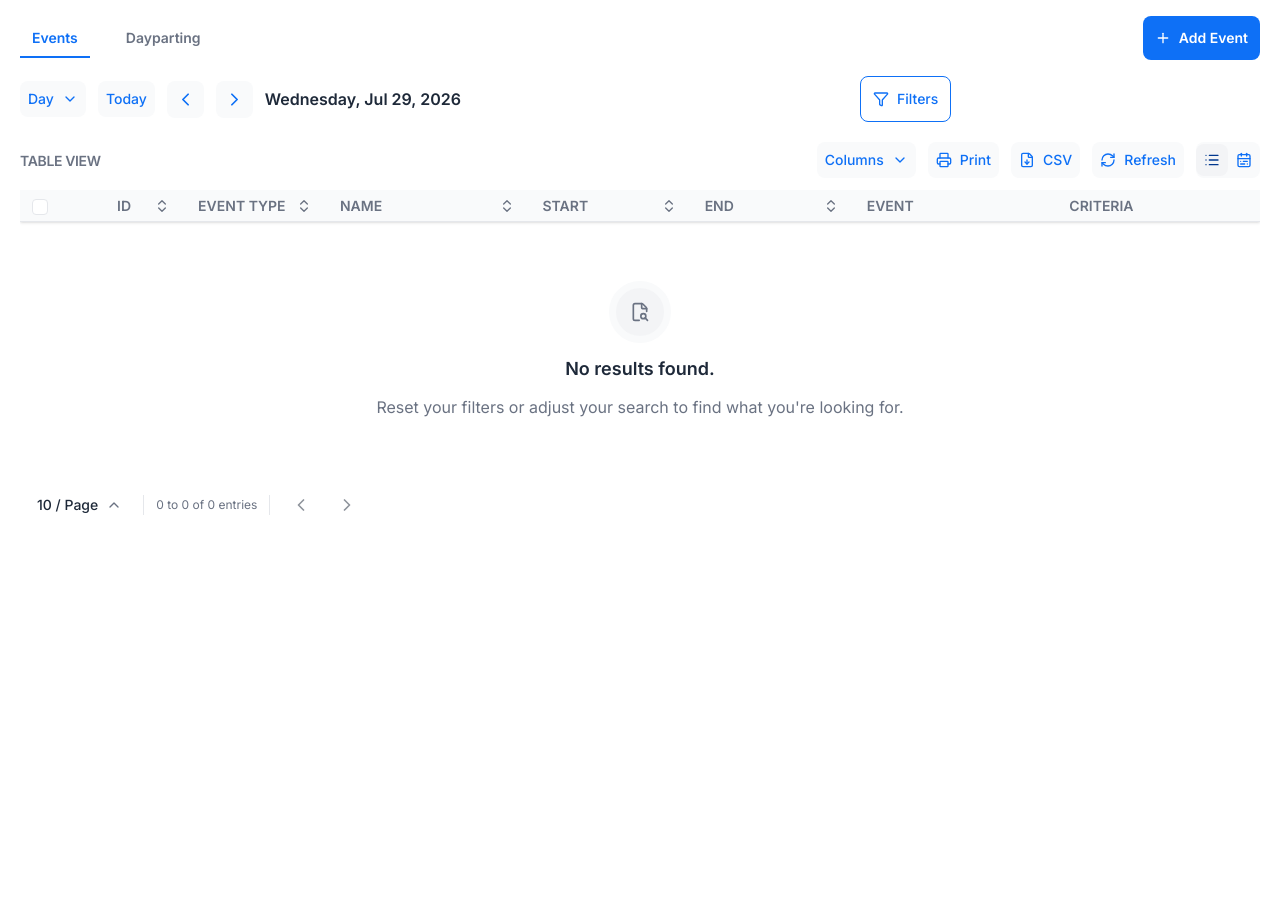
Test: Events page – calendar view toggle › clicking Table View toggle switches back from calendar view
Click the button titled "Calendar View".
click(1244, 160)  # box left=1228, top=144, right=1260, bottom=176
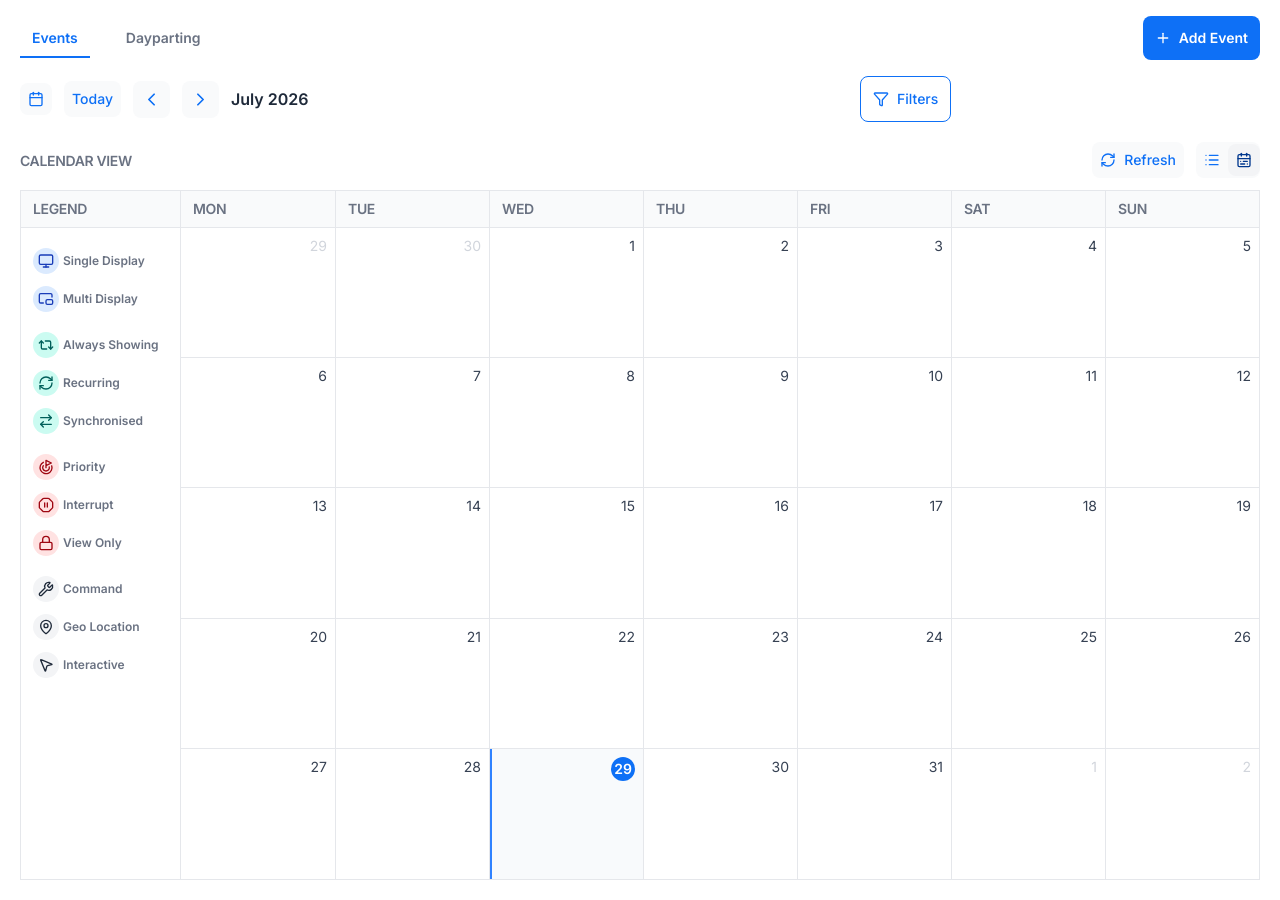
expect the text "Calendar View" is shown: met, box left=20, top=150, right=132, bottom=170
Click the button titled "Table View".
click(1212, 160)  # box left=1196, top=144, right=1228, bottom=176
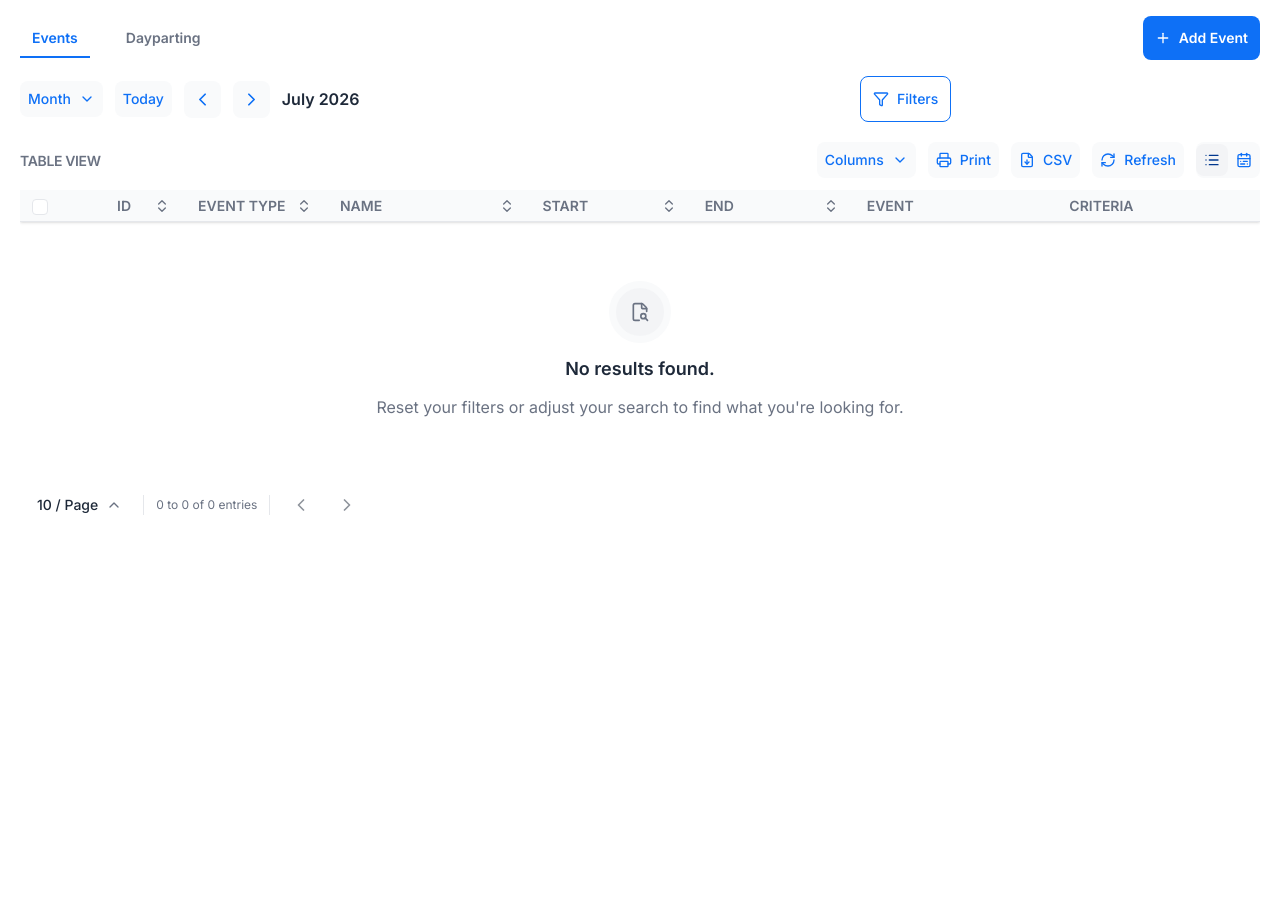
expect the text "Calendar View" is gone: met
